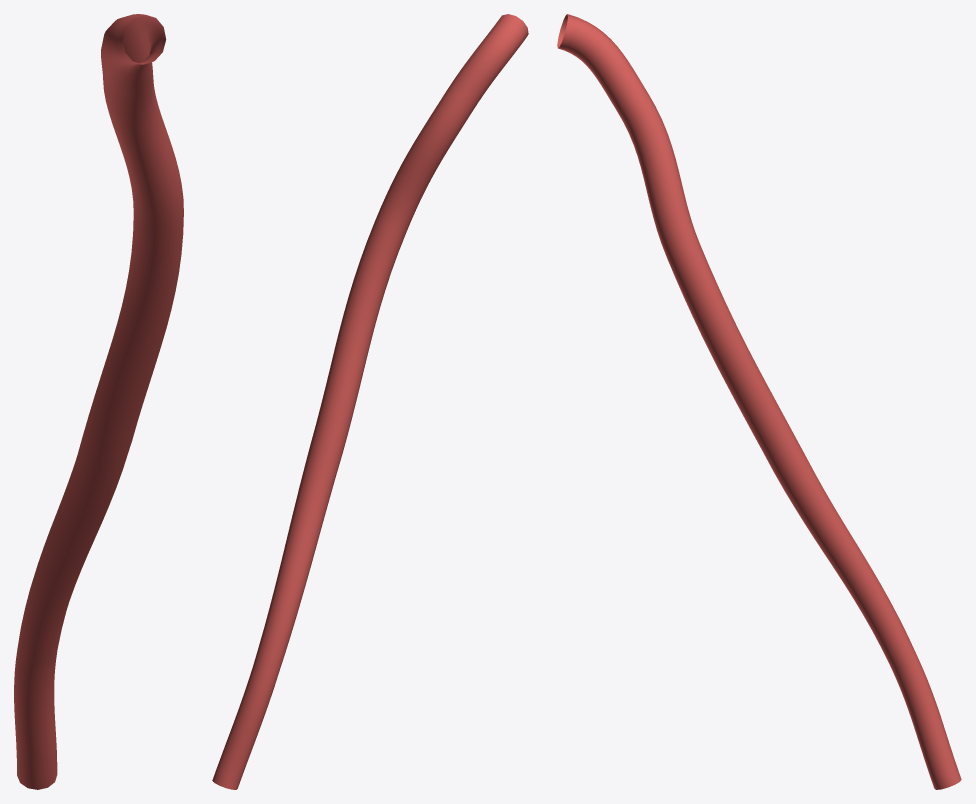
3 views of the same model, side by side, from view 1: azimuth 30°, elevation 25°; view 2: azimuth 150°, elevation 25°; view 3: azimuth 270°, elevation 25° (orthographic). The views are drawn at different scales.
Visible parts, largest first — view 1: 左侧足背动脉; view 2: 左侧足背动脉; view 3: 左侧足背动脉.
Boxes of the visible parts, <box> form: 左侧足背动脉: <box>14,14,183,789</box>; 左侧足背动脉: <box>212,14,528,789</box>; 左侧足背动脉: <box>557,14,961,789</box>.
Bounding box in the file's own units: 0.0203 × 0.097 × 0.0496.
